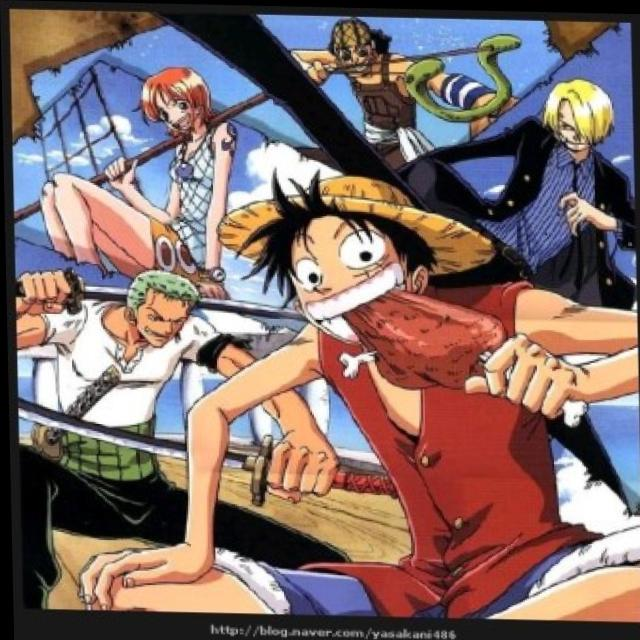Luffy: (217, 163, 489, 352)
Nami: (124, 61, 222, 149)
Sangdi: (534, 73, 623, 165)
Usopp: (326, 15, 400, 80)
Zoro: (113, 261, 208, 358)
